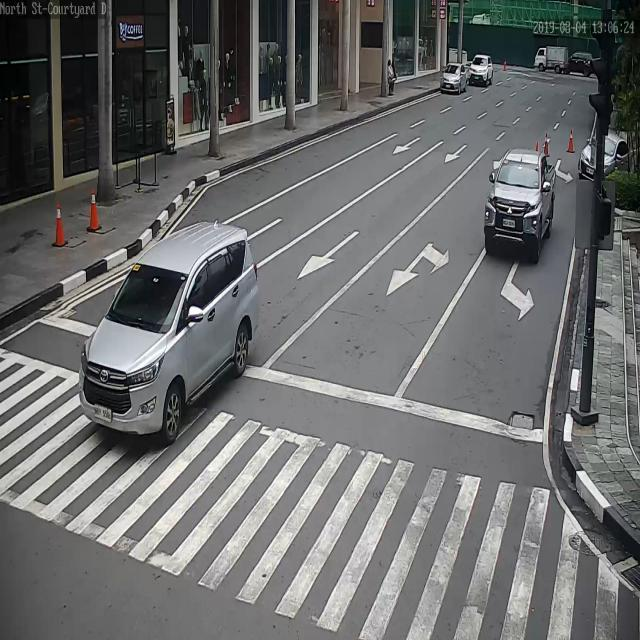car: (79, 226, 257, 435), (483, 145, 555, 257), (578, 131, 634, 179), (469, 55, 493, 88), (440, 63, 466, 93), (569, 50, 594, 75)
motorcycle: (533, 46, 571, 72)
